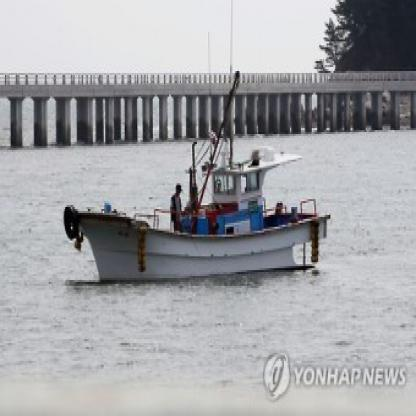fish-b: (61, 140, 334, 294)
